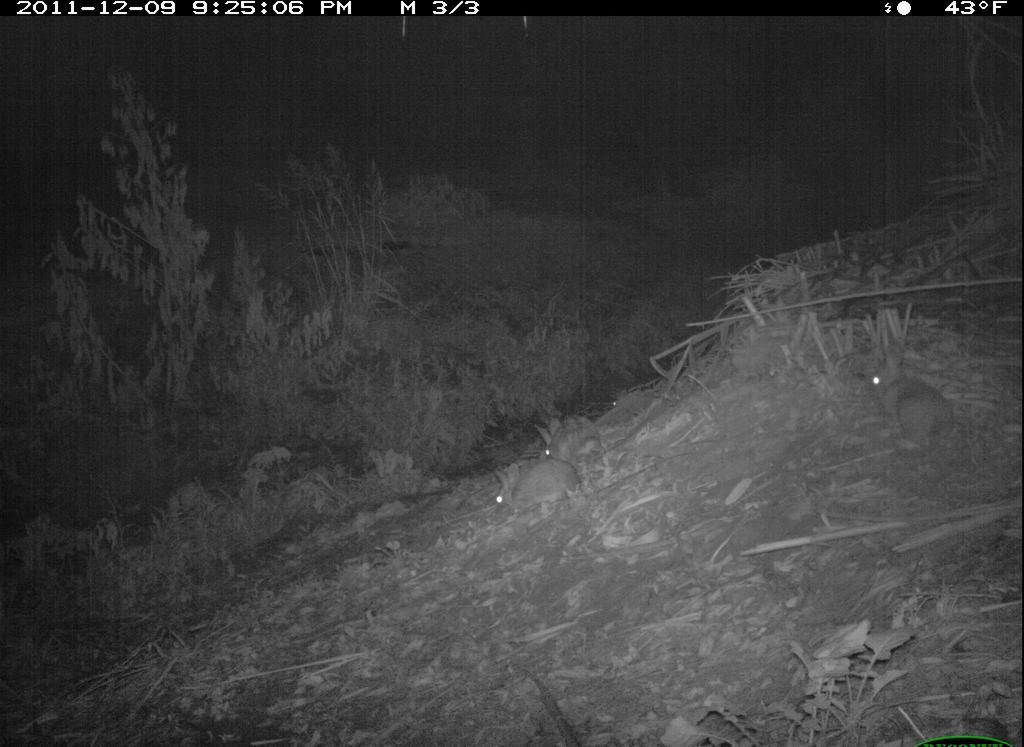rabbit: (858, 347, 966, 451), (486, 463, 591, 515), (530, 406, 596, 466)
